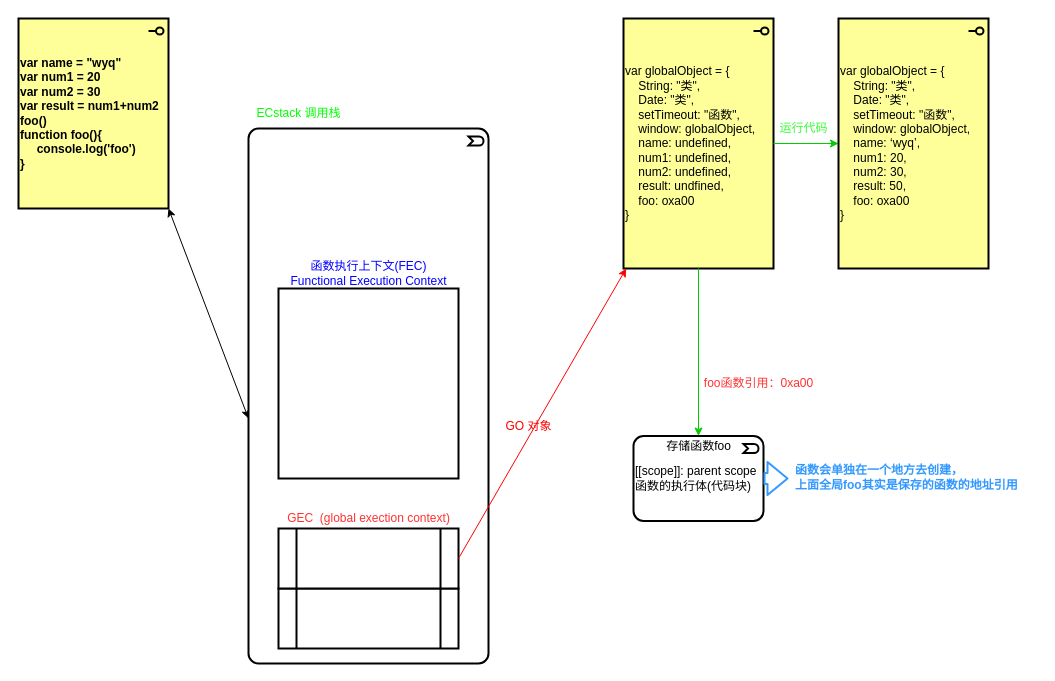
This 1055x681 diagram has some shape labels left out. Each missing label, with the centre of its shape:
VO(variable Object):GO: the point at 368,558
开始执行代码 var name = "wyq": the point at 368,618
